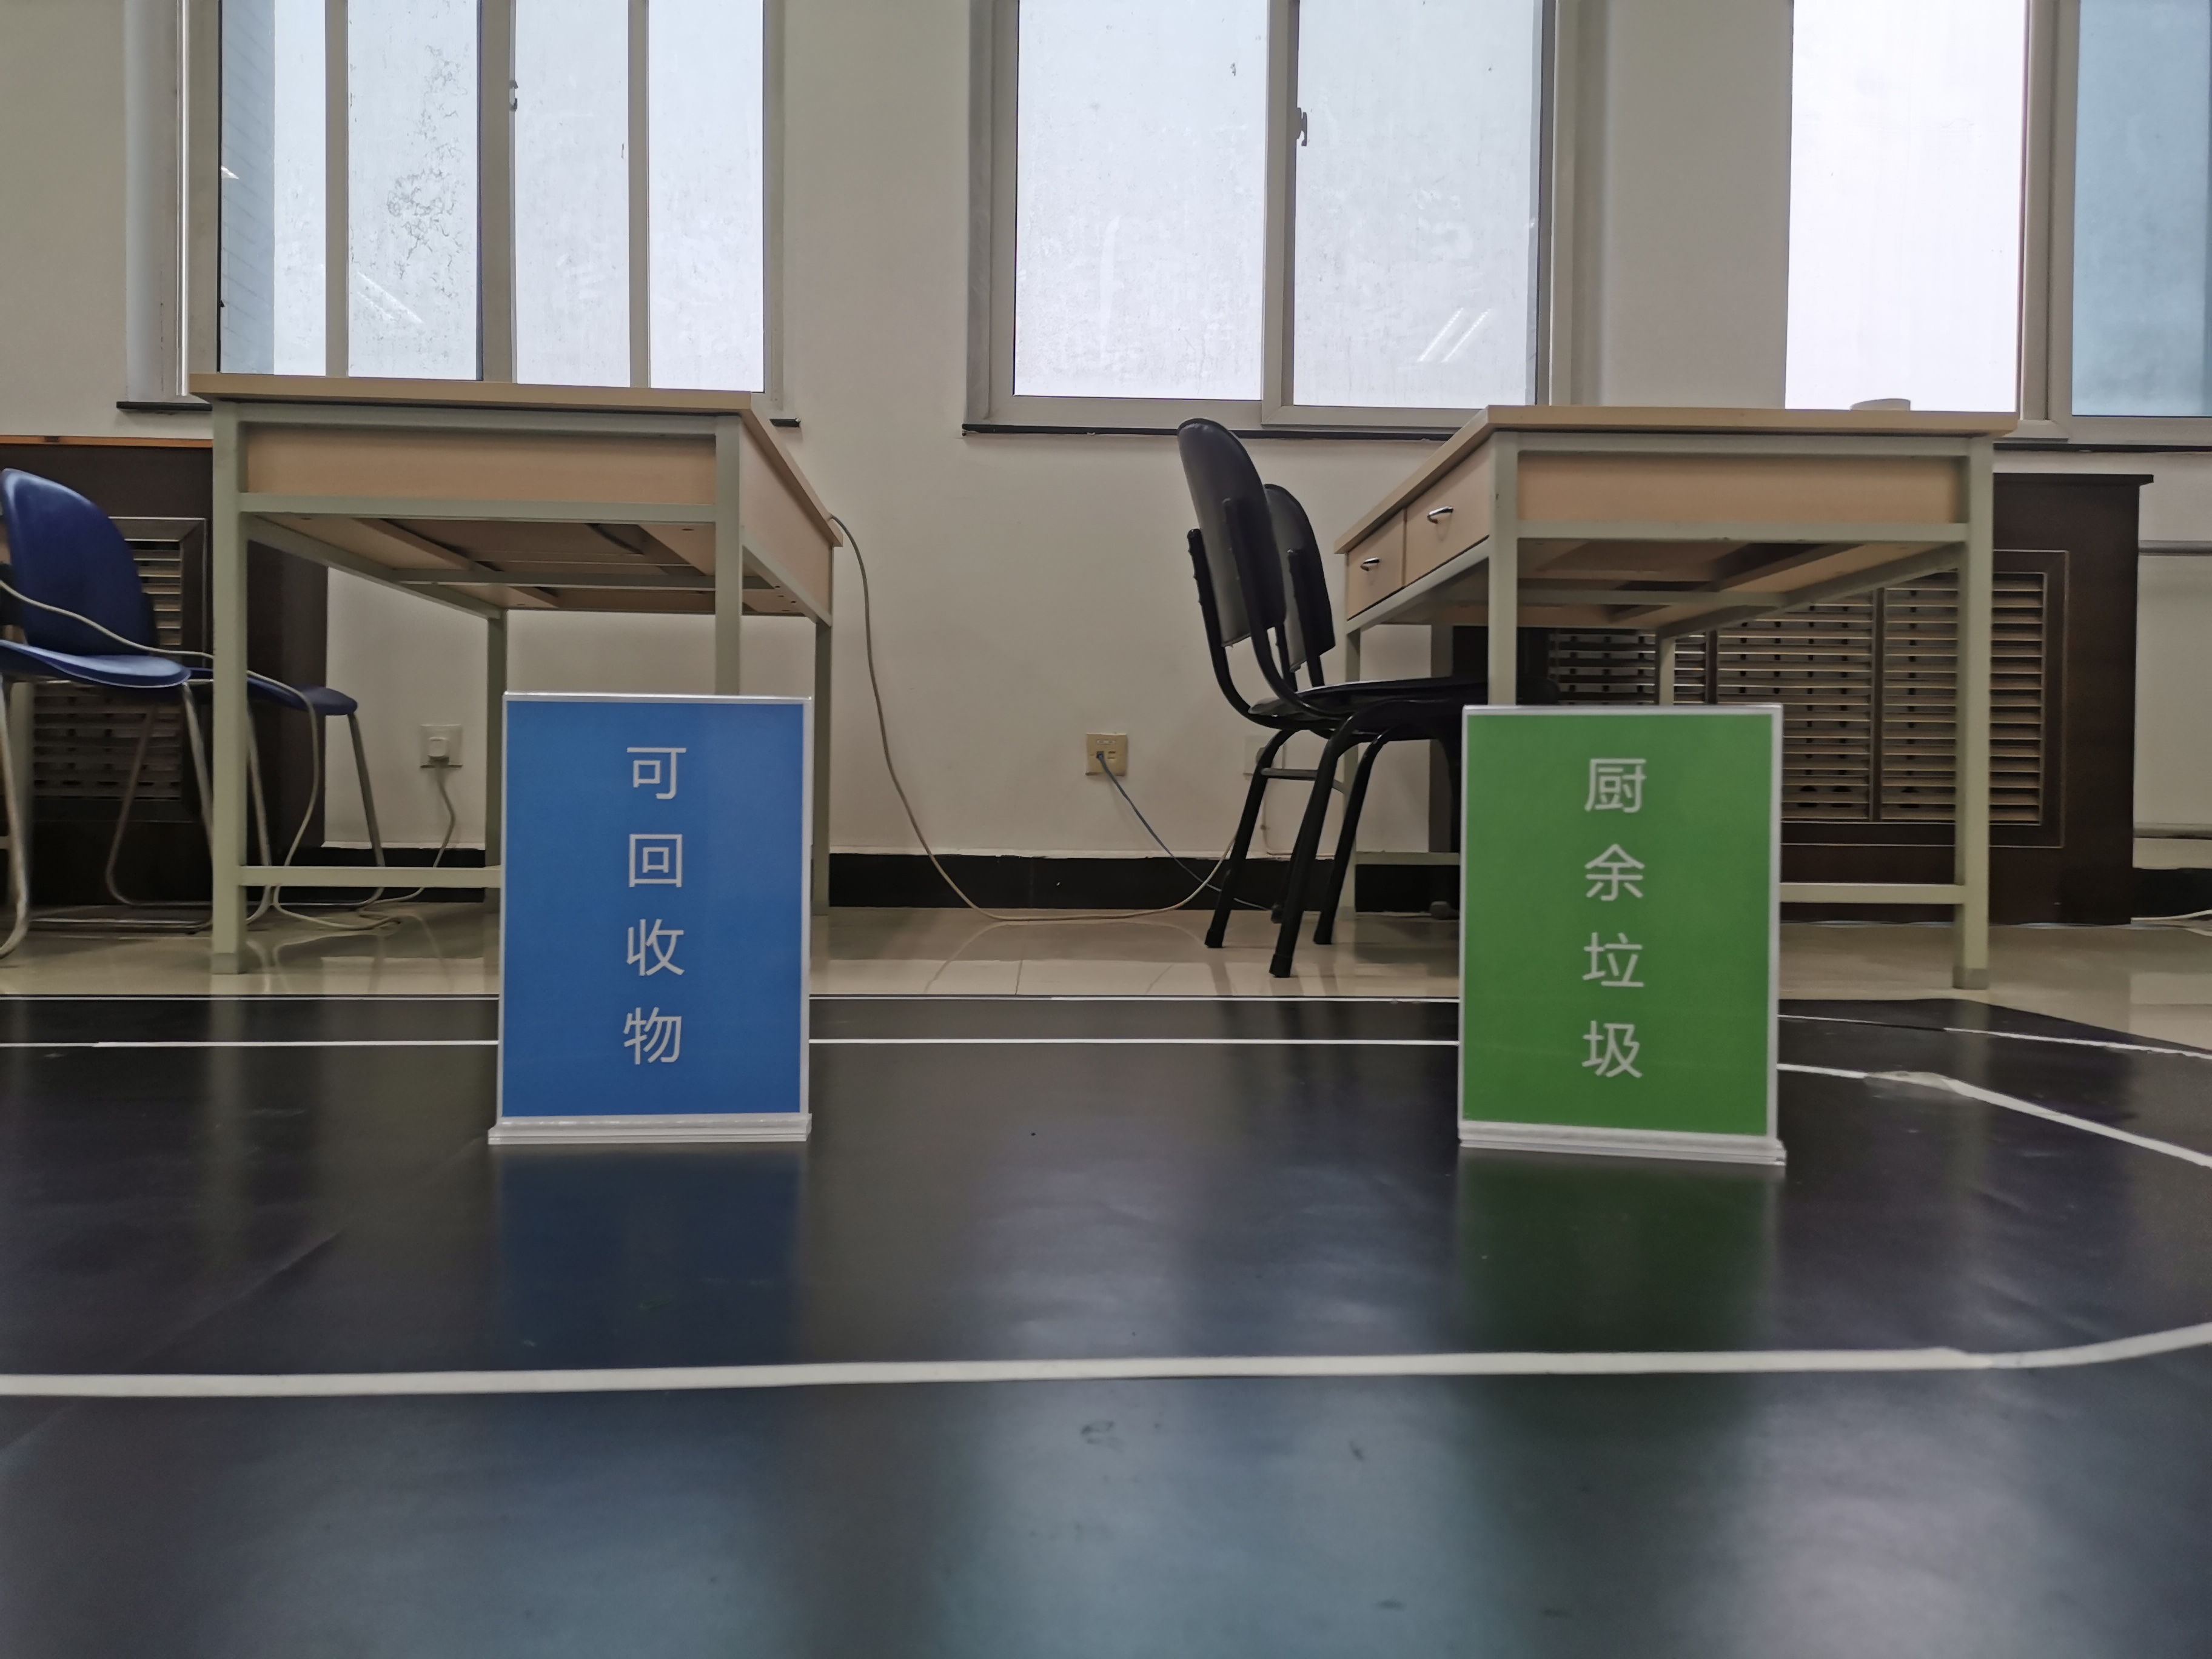blue: (510, 706, 794, 1105)
green: (1472, 720, 1761, 1117)
